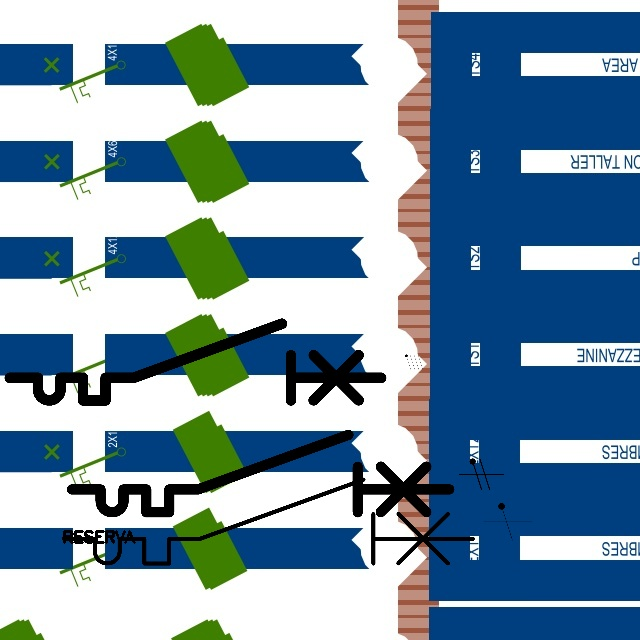interruptor_termomagnetico: (53, 469, 483, 574), (62, 425, 459, 522), (0, 314, 391, 410)
